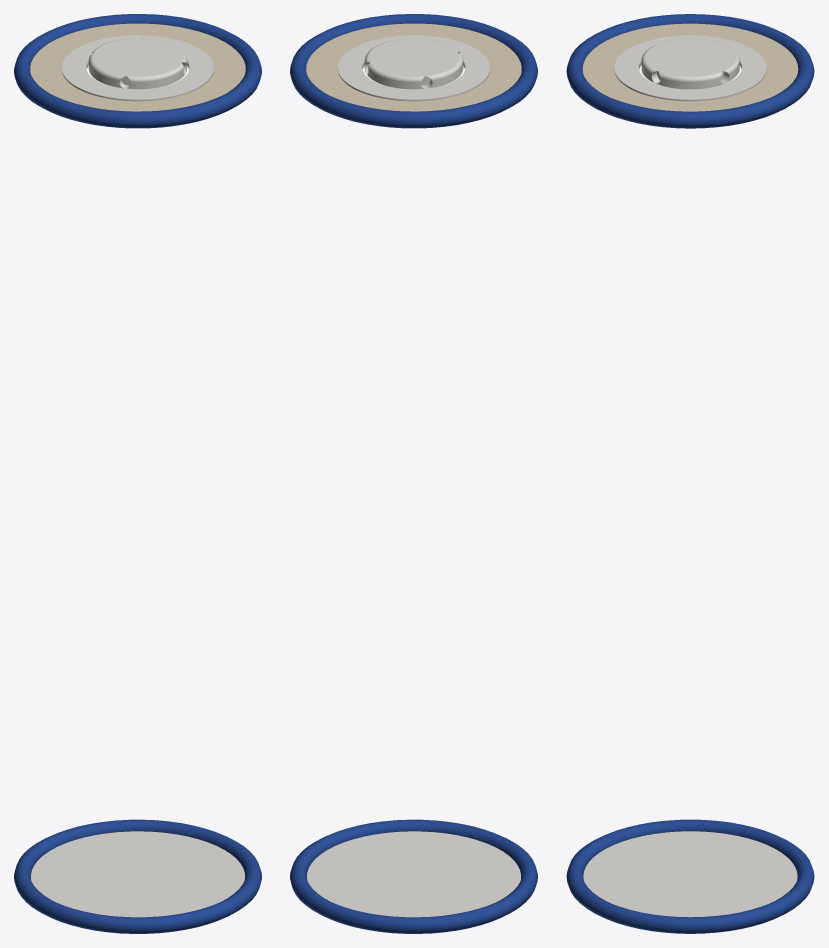
File: cell-ends.glb
3 renders of one model, left to right at view 1: azimuth 30°, elevation 25°; view 2: azimuth 150°, elevation 25°; view 3: azimuth 270°, elevation 25°, orthographic.
Parts seen in each view (by area): view 1: cell_ends; view 2: cell_ends; view 3: cell_ends.
Part boxes in pixels (box(x1,y1,x2,y2)): cell_ends: box(14, 14, 261, 933); cell_ends: box(290, 14, 537, 933); cell_ends: box(566, 14, 814, 933).
Size of the model in its own units: 18.14 by 66.69 by 18.14.
